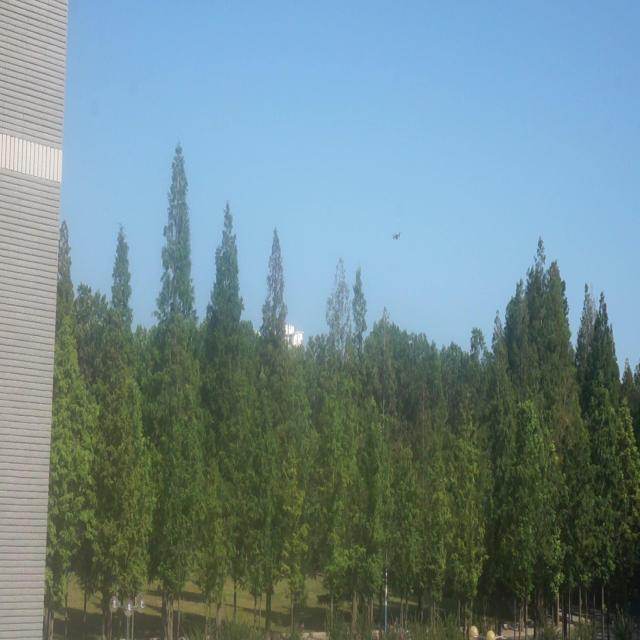drone: (390, 227, 401, 244)
